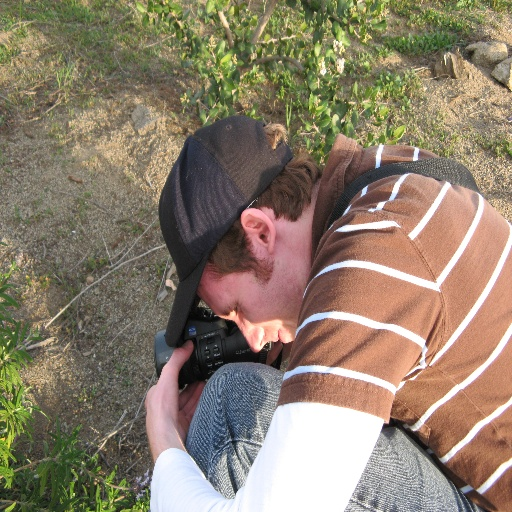hand: (141, 335, 205, 482), (266, 336, 295, 365)
